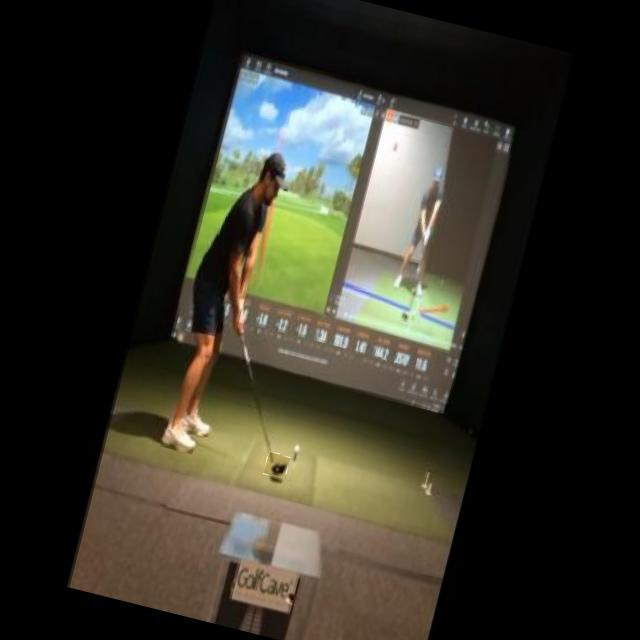club head: (263, 452, 290, 479)
